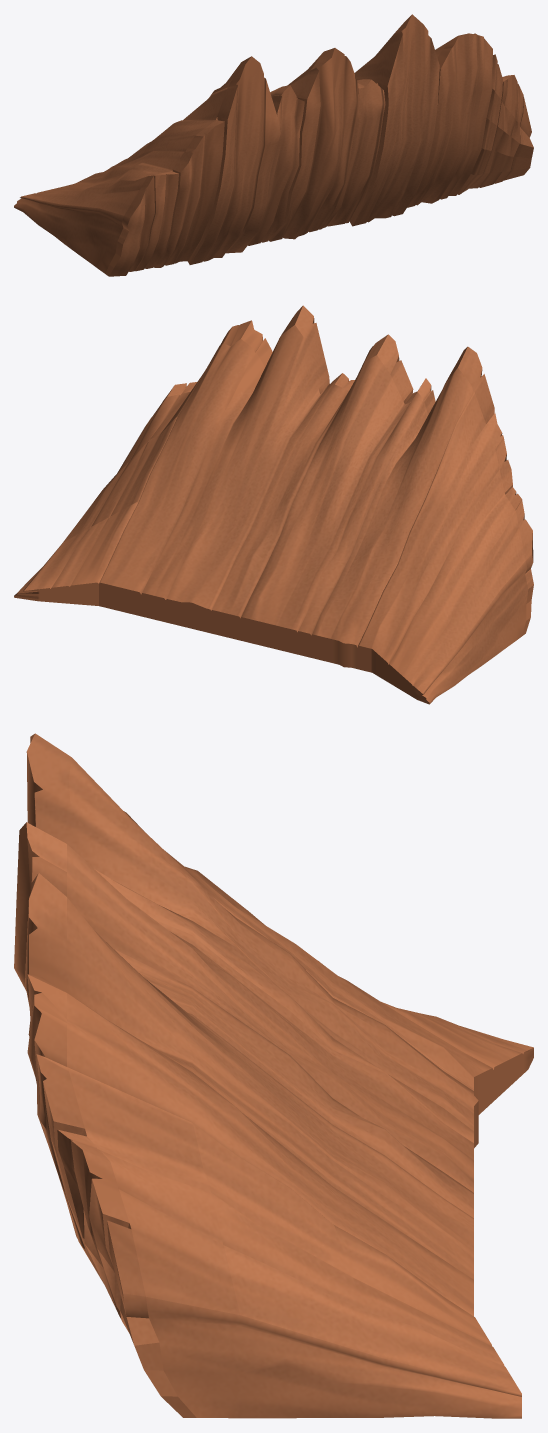
Rendered from Desert_Stonewall_3.fbx.
3 renders of one model, top to bottom at view 1: azimuth 30°, elevation 25°; view 2: azimuth 150°, elevation 25°; view 3: azimuth 270°, elevation 25°, orthographic. The views are drawn at different scales.
Visible parts, largest first — view 1: Stone; view 2: Stone; view 3: Stone.
Boxes of the visible parts, x1=… form: Stone: x1=14, y1=14, x2=533, y2=276; Stone: x1=14, y1=305, x2=533, y2=704; Stone: x1=14, y1=733, x2=533, y2=1418.
Bounding box in the file's own units: 45.97 × 24.65 × 27.68.
